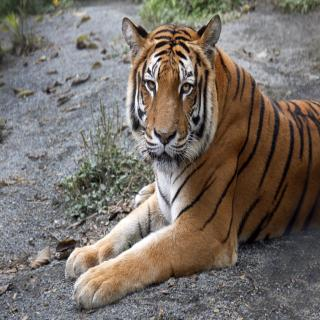Tiger: (64, 14, 320, 308)
